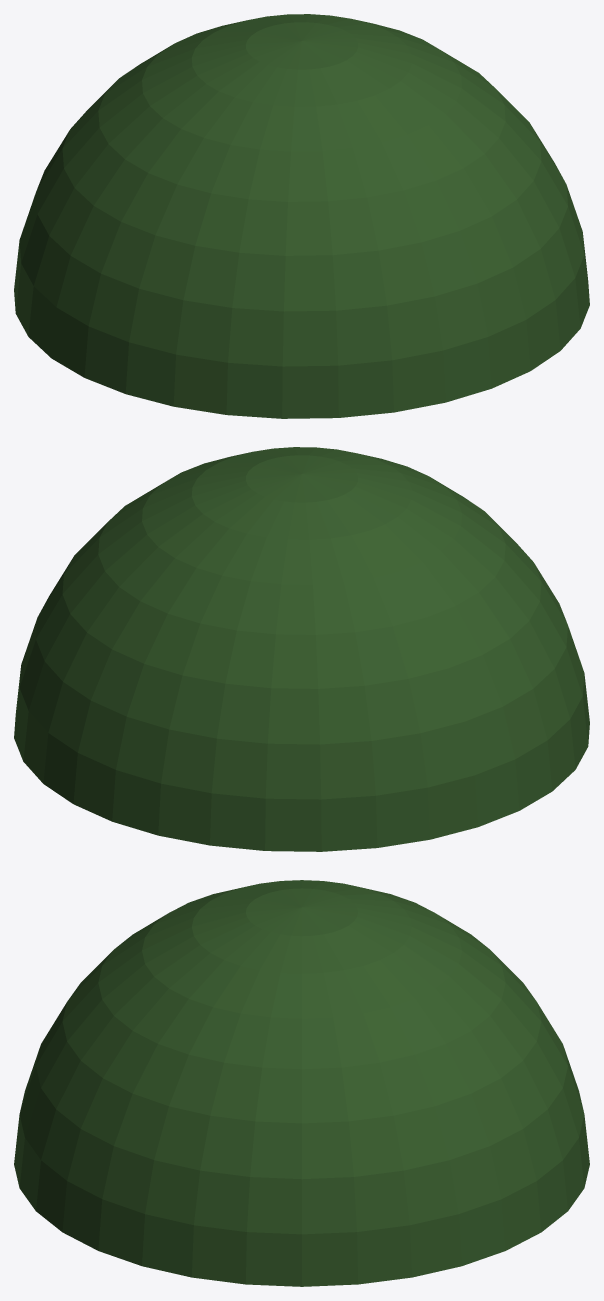
File: mountain1 (1).fbx
3 views of the same model, one above another, from view 1: azimuth 30°, elevation 25°; view 2: azimuth 150°, elevation 25°; view 3: azimuth 270°, elevation 25° (orthographic).
Visible parts, largest first — view 1: Sphere; view 2: Sphere; view 3: Sphere.
Boxes of the visible parts, <box> form: Sphere: <box>14,14,589,418</box>; Sphere: <box>14,447,589,851</box>; Sphere: <box>14,880,589,1286</box>.
Bounding box in the file's own units: 1535 × 751 × 1525.
